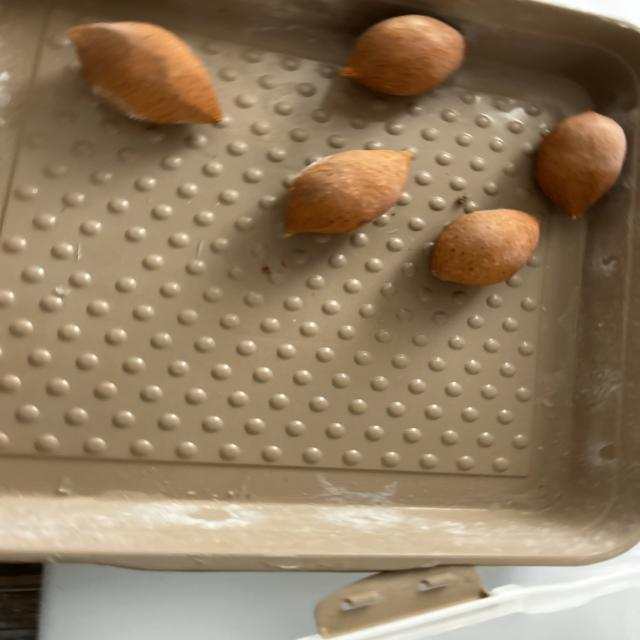kobi: (65, 20, 224, 126), (282, 148, 413, 236), (339, 14, 466, 96), (536, 115, 626, 218), (430, 207, 540, 285)
